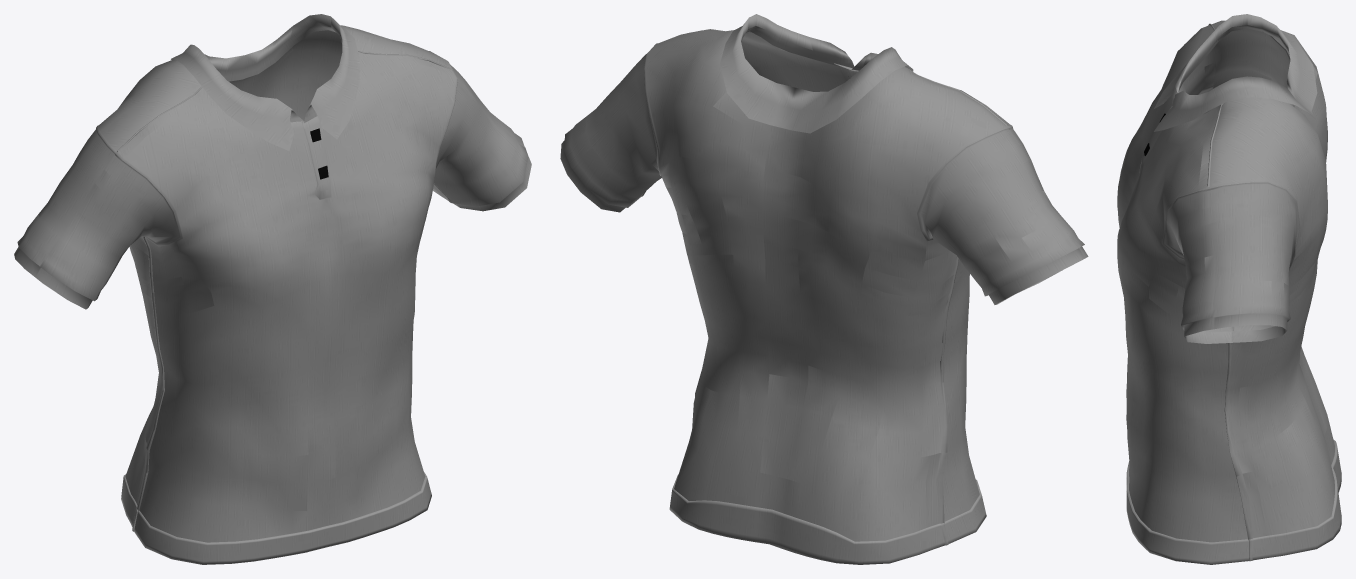
The model's file is namuhekam-male-polo-shirt.glb.
3 views of the same model, side by side, from view 1: azimuth 30°, elevation 25°; view 2: azimuth 150°, elevation 25°; view 3: azimuth 270°, elevation 25° (orthographic). The views are drawn at different scales.
Parts seen in each view (by area): view 1: male polo shirt; view 2: male polo shirt; view 3: male polo shirt.
Boxes of the visible parts, left/top/right/bottom form: male polo shirt: left=14, top=14, right=531, bottom=564; male polo shirt: left=560, top=14, right=1088, bottom=564; male polo shirt: left=1117, top=14, right=1341, bottom=564.
Size of the model in its own units: 68.42 by 61.38 by 27.41.
Materials: 1 (1 with a texture image).
